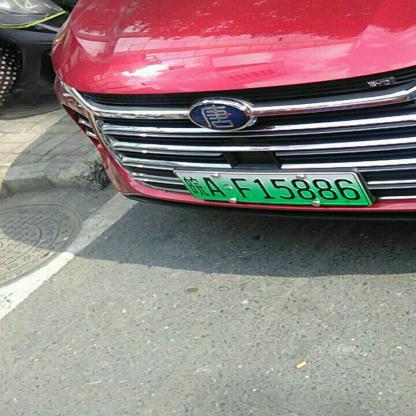lp: (171, 169, 371, 202)
